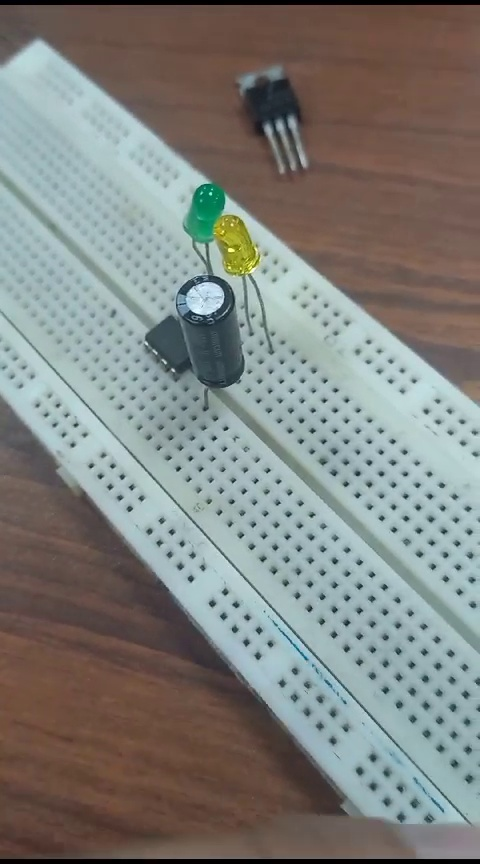IC: (142, 313, 196, 380)
LED: (212, 215, 263, 293), (183, 176, 226, 260)
capacitor: (163, 269, 250, 396)
voltage regulator: (220, 60, 319, 173)
